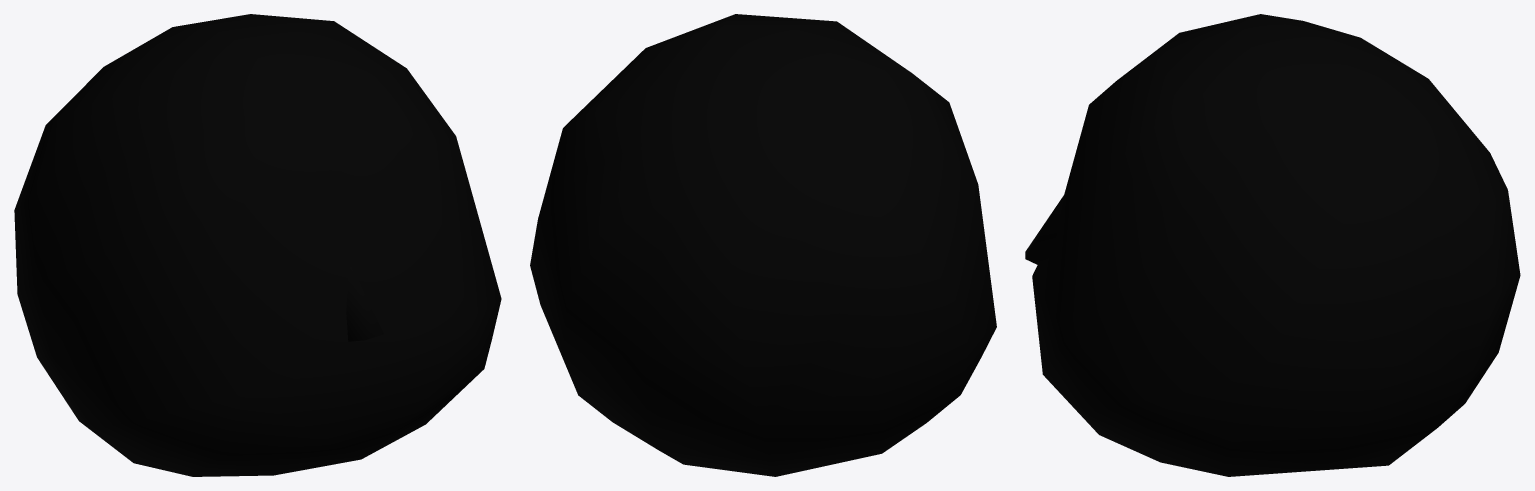
File: bald.dae
3 renders of one model, left to right at view 1: azimuth 30°, elevation 25°; view 2: azimuth 150°, elevation 25°; view 3: azimuth 270°, elevation 25°, orthographic. The views are drawn at different scales.
Visible parts, largest first — view 1: bald; view 2: bald; view 3: bald.
Part boxes in pixels (left/top/right/bottom): bald: left=14, top=14, right=501, bottom=476; bald: left=530, top=14, right=996, bottom=476; bald: left=1025, top=14, right=1520, bottom=476.
Bounding box in the file's own units: 21.57 × 20.23 × 22.11.
Materials: 1 (1 with a texture image).
